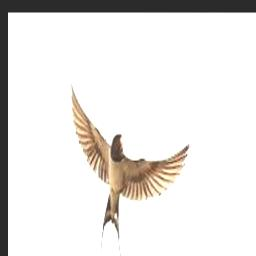Swallow: (70, 82, 189, 256)
